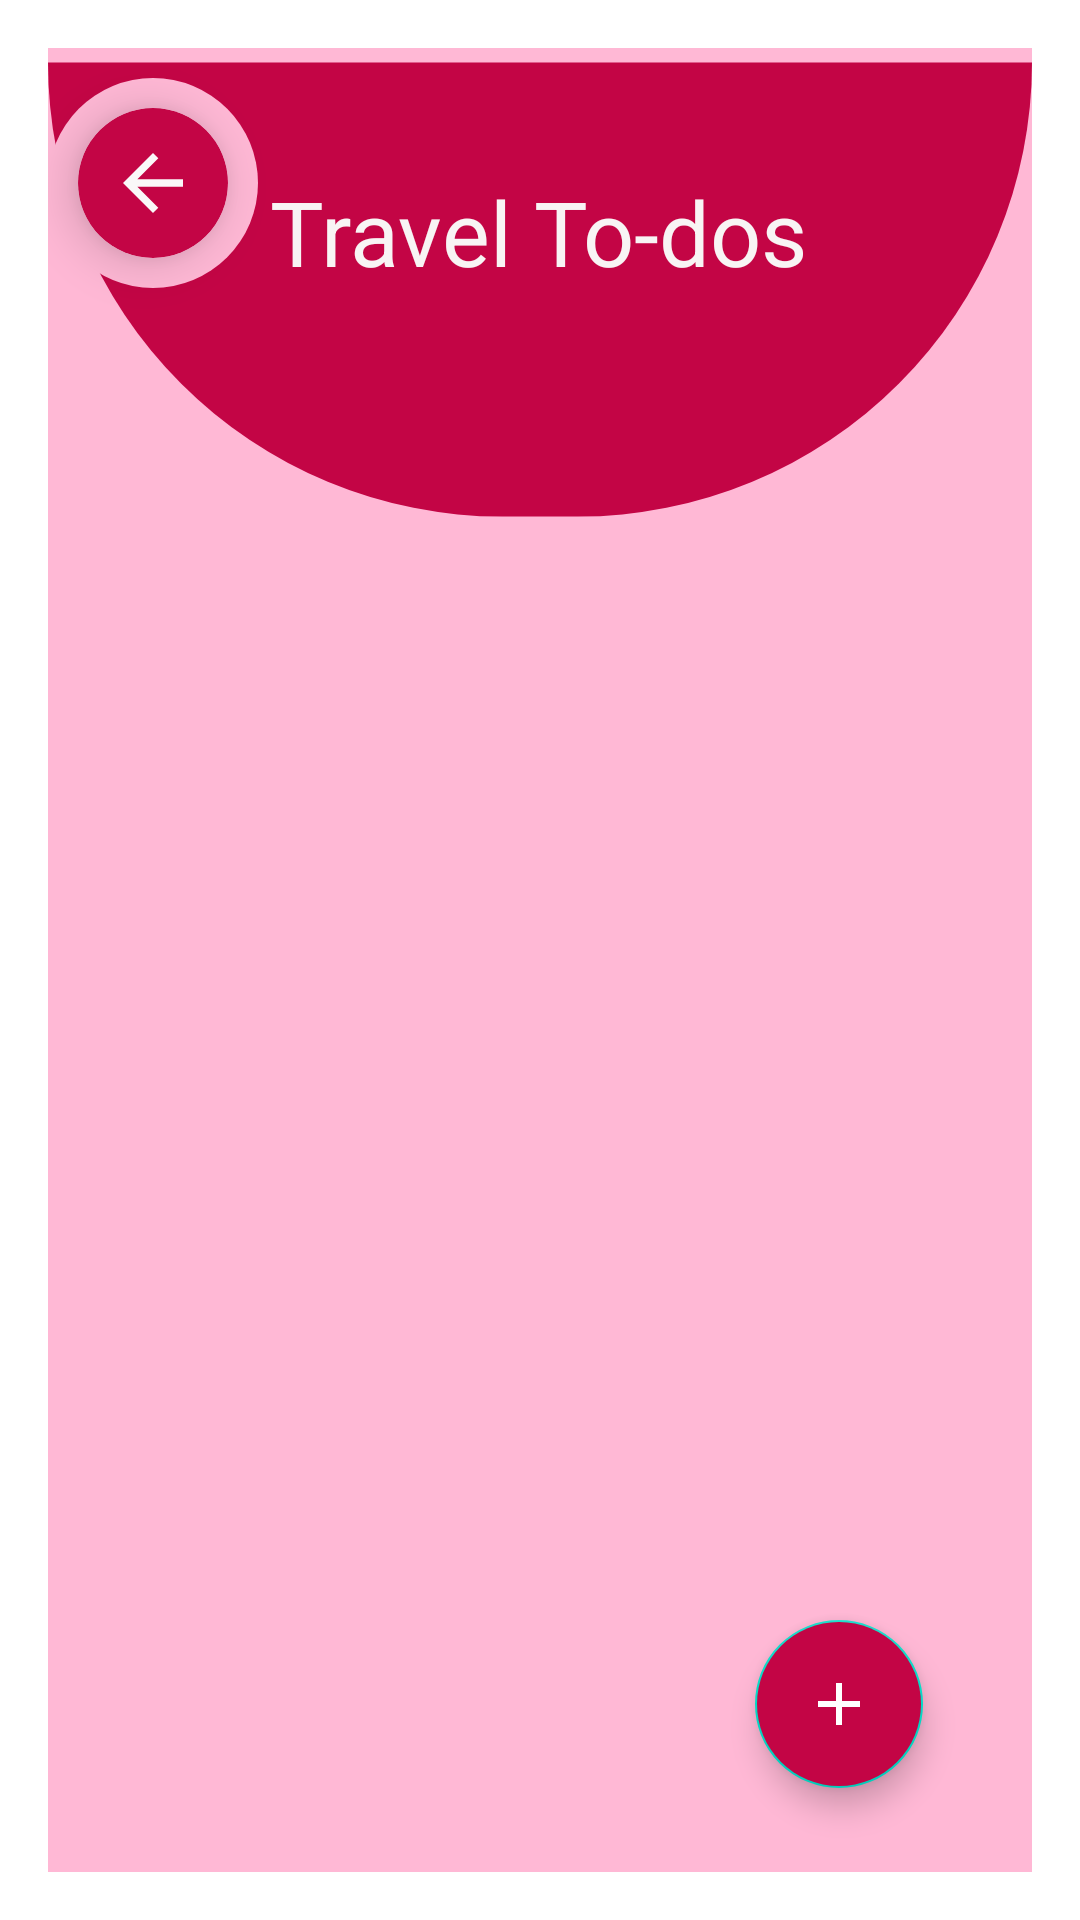

Point at icon controls on the screen. Image size 1080px×1920px, points as (x,y).
add: (815,1680)
